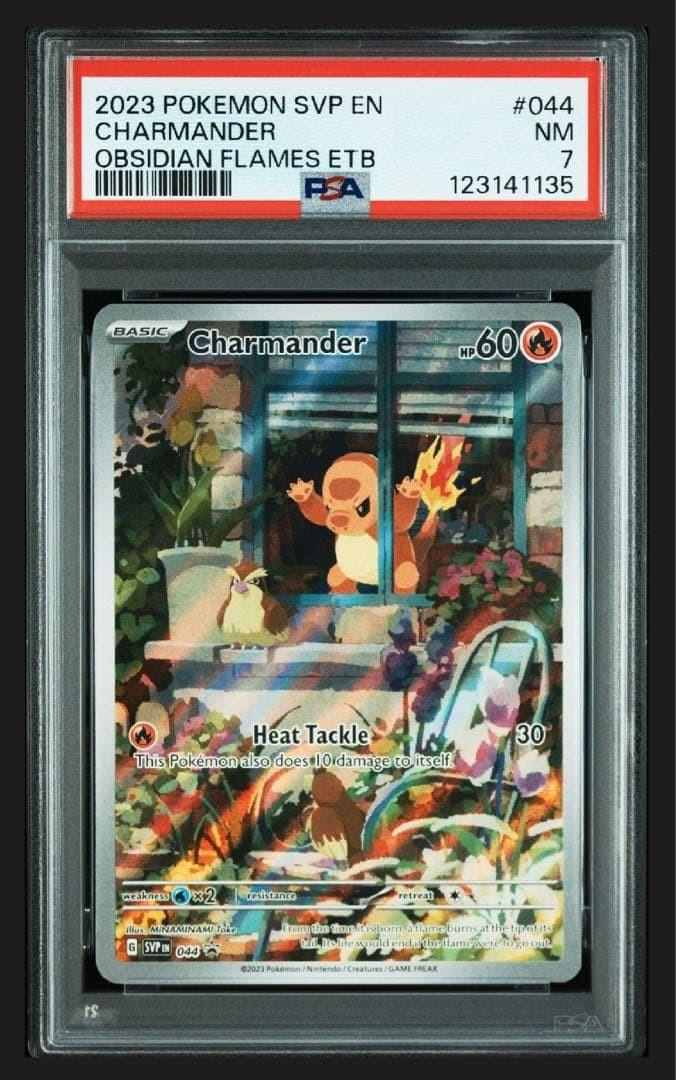card-2UtV: (90, 301, 584, 985)
